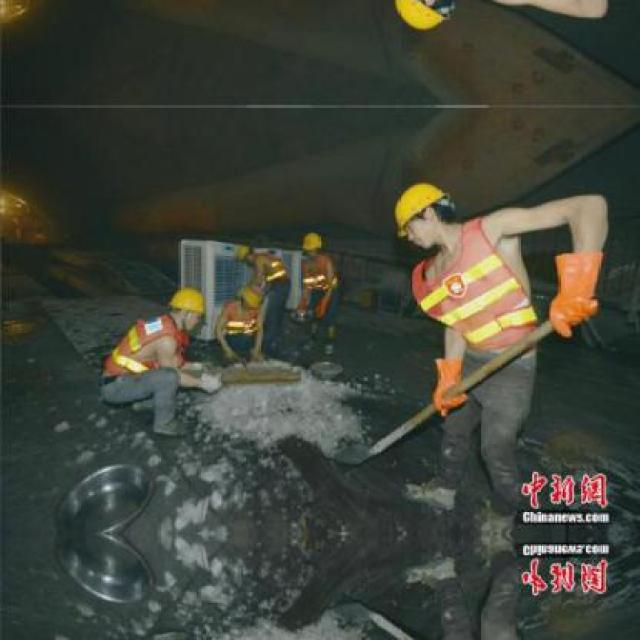helmet: (387, 176, 459, 254), (386, 0, 460, 37), (167, 285, 205, 330), (240, 283, 266, 317), (302, 231, 322, 261), (234, 243, 258, 264)
